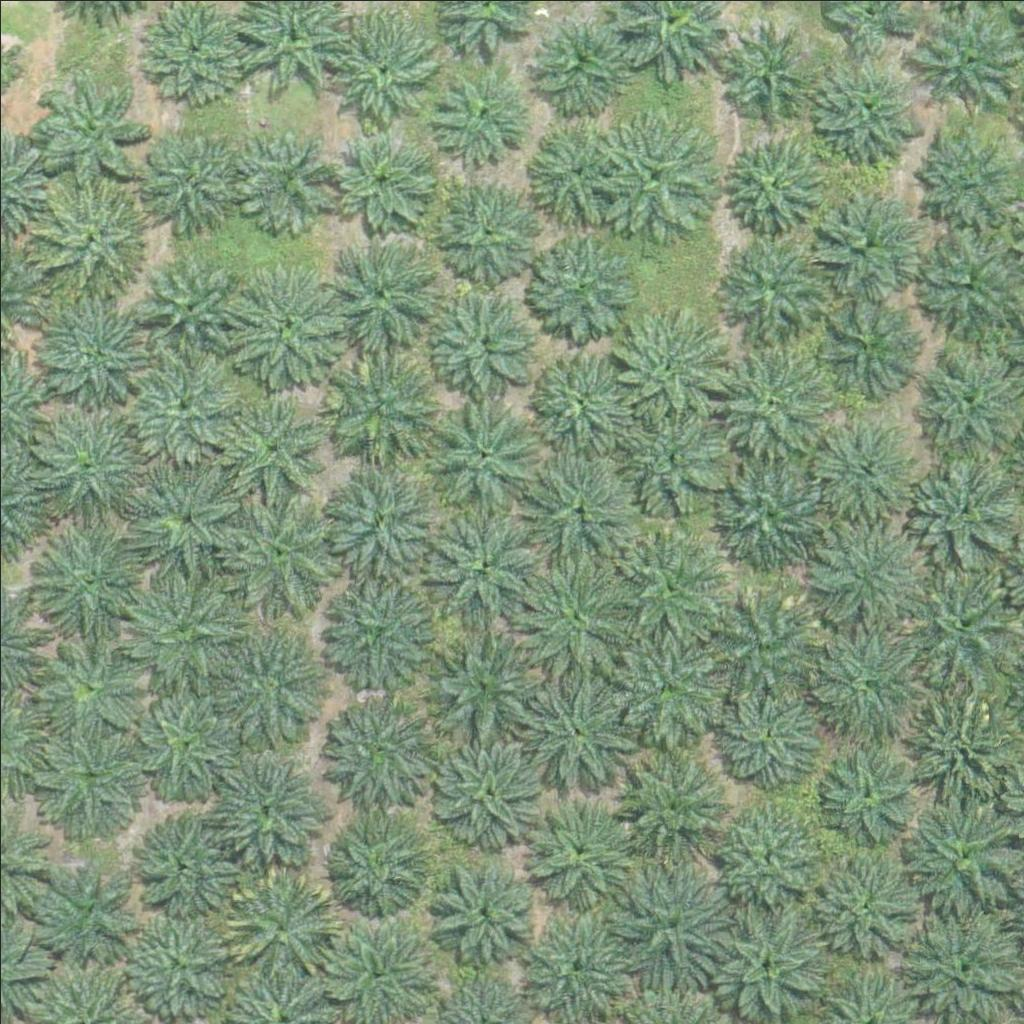Kelapa_Sawit: (612, 853, 737, 979), (701, 890, 826, 1016), (26, 714, 151, 840), (119, 678, 244, 804), (890, 692, 1015, 818), (804, 502, 929, 628), (803, 612, 928, 738), (706, 449, 831, 575), (710, 338, 835, 464), (602, 293, 727, 419), (609, 391, 734, 517), (517, 554, 642, 680), (515, 450, 640, 576), (519, 343, 644, 469), (523, 222, 648, 348), (421, 272, 546, 398), (421, 389, 546, 515), (314, 686, 439, 812), (311, 568, 436, 694), (315, 342, 440, 468), (316, 226, 441, 352), (218, 486, 343, 612), (211, 618, 336, 744), (206, 746, 331, 872), (122, 555, 247, 681), (128, 452, 253, 578), (120, 330, 245, 456), (33, 279, 158, 405), (25, 393, 150, 519), (30, 514, 155, 640), (319, 6, 444, 132), (594, 111, 719, 237), (216, 854, 341, 979), (516, 669, 641, 794), (415, 507, 540, 632), (415, 619, 540, 744), (315, 456, 440, 581), (220, 260, 345, 385), (799, 842, 912, 956), (31, 849, 144, 962), (119, 909, 232, 1022), (707, 797, 820, 910), (614, 633, 727, 746), (712, 678, 825, 791), (705, 580, 818, 693), (31, 77, 144, 190), (808, 50, 921, 163), (515, 905, 627, 1018), (905, 795, 1017, 908), (807, 290, 919, 403), (615, 754, 727, 867), (718, 224, 830, 337), (519, 792, 631, 905), (31, 182, 143, 295), (137, 820, 237, 921), (327, 820, 427, 921), (432, 860, 532, 961), (817, 740, 917, 841), (619, 539, 719, 640), (437, 737, 537, 838), (220, 393, 320, 494), (139, 127, 239, 228), (240, 128, 340, 229), (330, 125, 430, 226), (442, 178, 542, 279), (430, 62, 530, 163), (528, 129, 628, 230), (807, 408, 907, 508), (39, 632, 139, 732), (525, 15, 625, 115), (725, 135, 825, 235), (716, 27, 816, 127), (813, 191, 913, 291), (148, 257, 235, 346)
